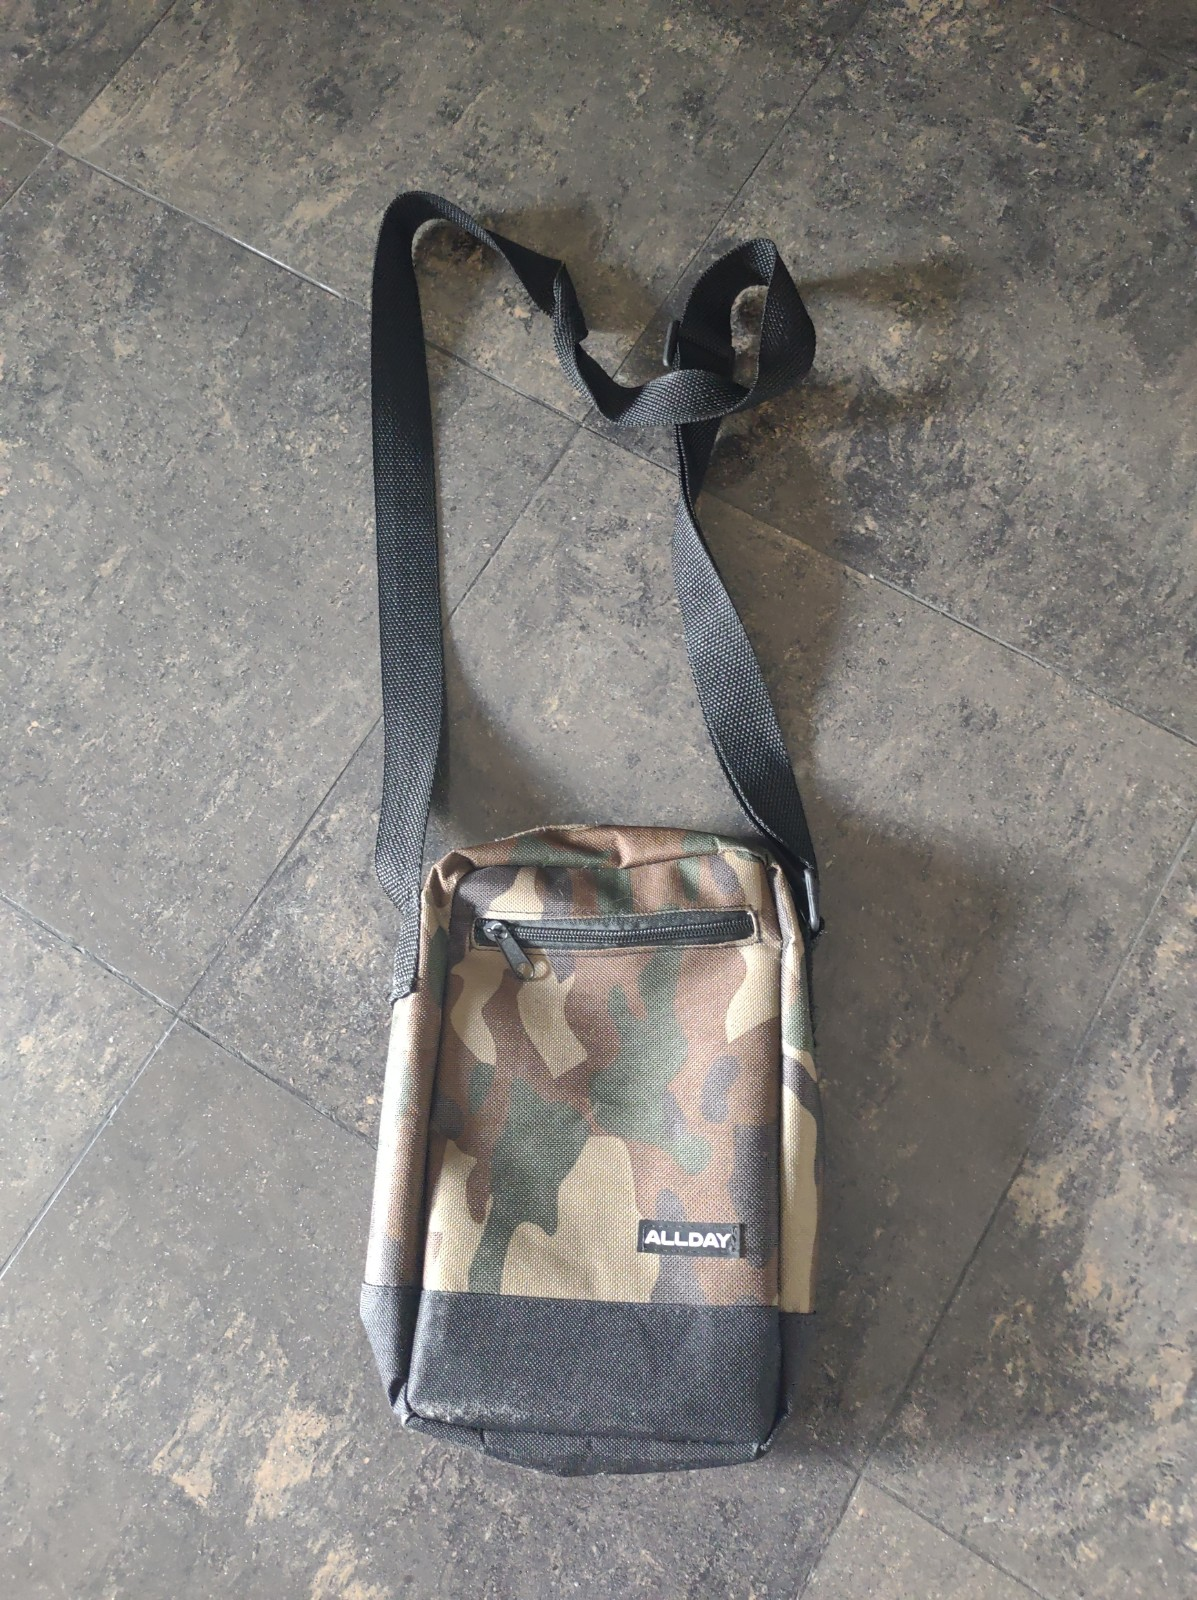cartera: (150, 574, 990, 1543)
lona: (397, 858, 797, 1460)
